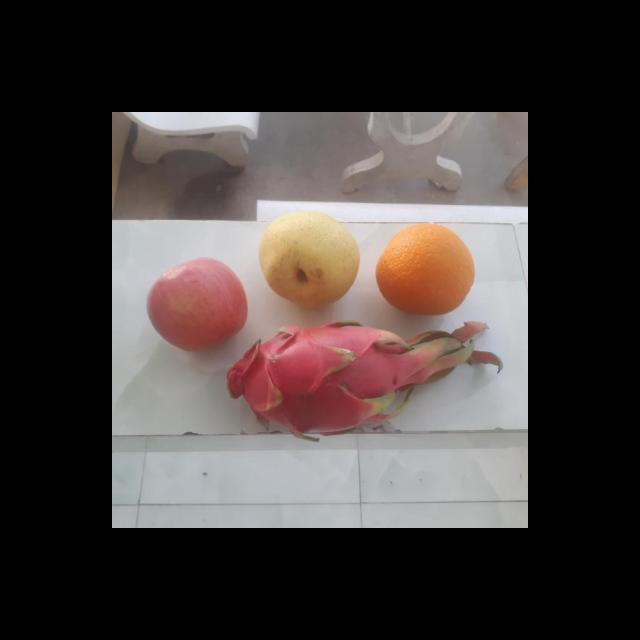apple: (142, 254, 248, 350)
orange: (373, 222, 478, 316)
pear: (254, 212, 364, 306)
pitaya: (212, 318, 414, 434)
